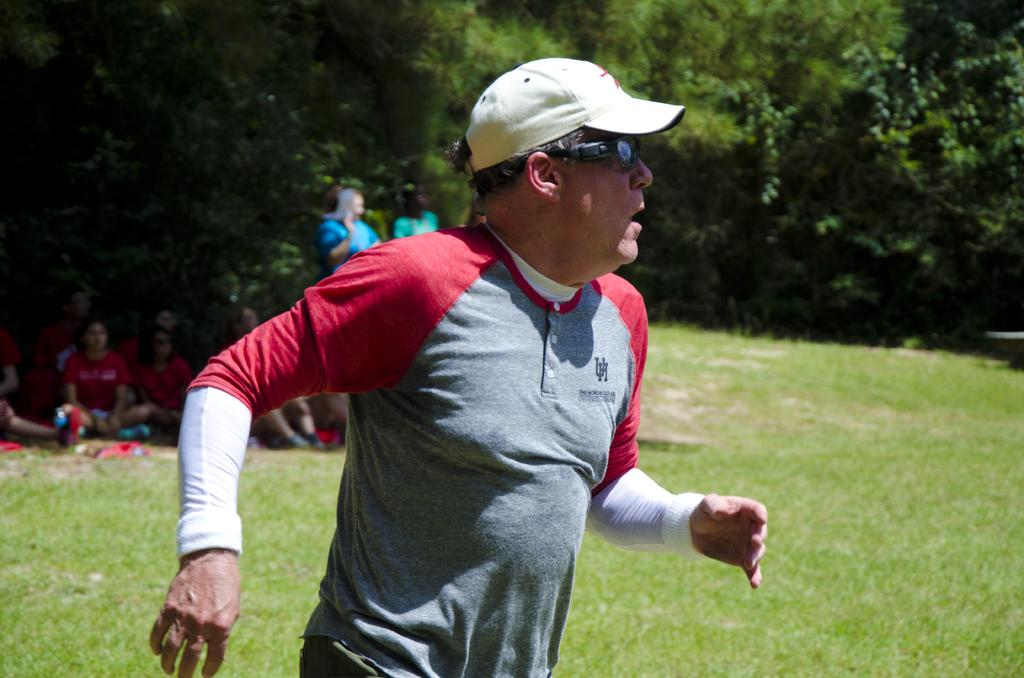Hat: (464, 54, 684, 172)
